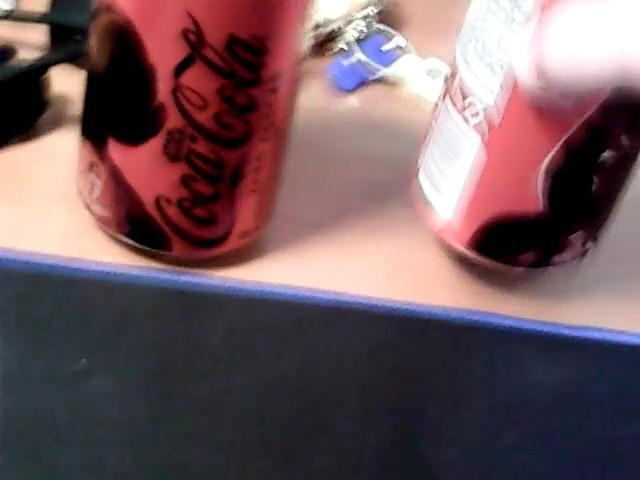coke: (416, 2, 639, 275), (84, 0, 298, 254)
